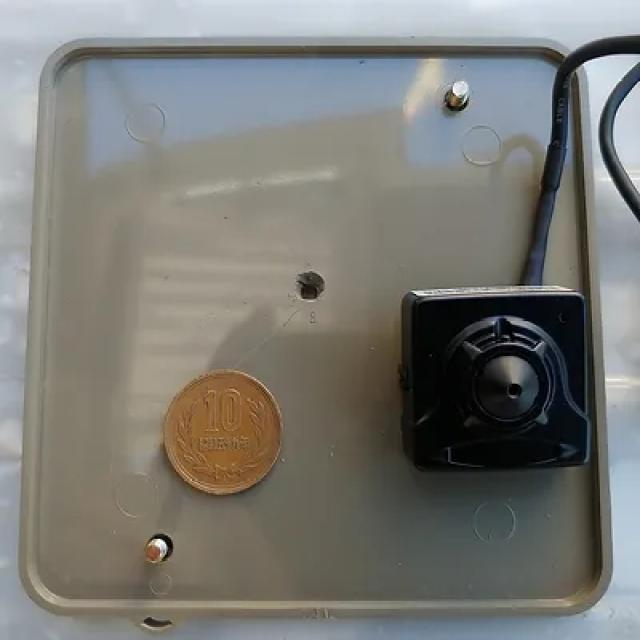hidden camera: (503, 379, 530, 403)
